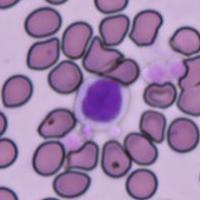L: (73, 75, 130, 124)
